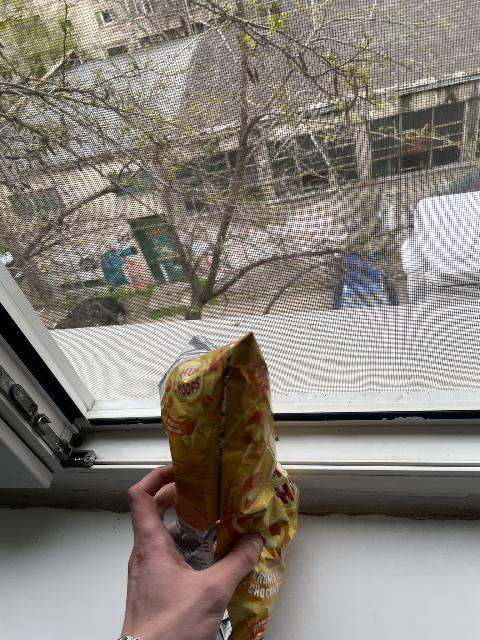Chio Hula Hoops Cheese 70g: (161, 330, 297, 640)
